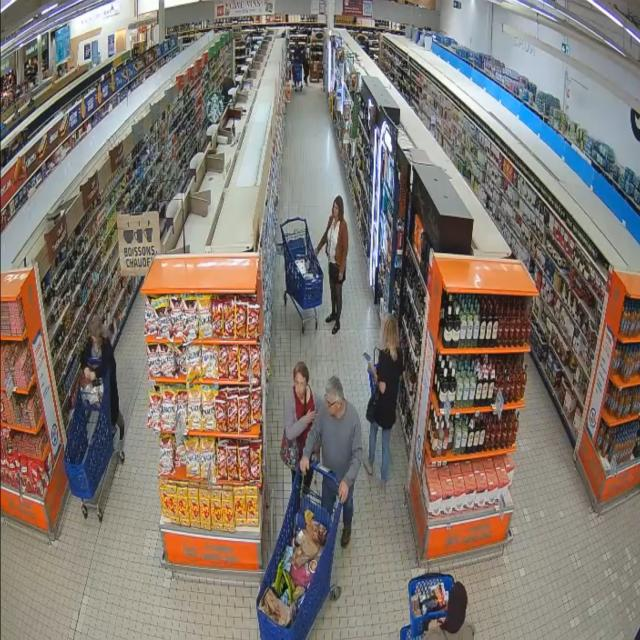bags: (281, 431, 298, 470), (366, 383, 379, 422)
hands: (338, 481, 349, 504), (304, 410, 317, 425), (300, 457, 309, 474), (428, 619, 443, 629), (368, 362, 376, 376), (84, 367, 90, 379), (89, 371, 96, 381), (339, 272, 344, 282), (315, 246, 320, 255)
person: (300, 377, 362, 547), (364, 316, 403, 490), (83, 315, 124, 440), (317, 195, 348, 334), (285, 362, 316, 462), (424, 582, 474, 639)
